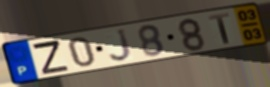0: (66, 36, 98, 68)
8: (176, 16, 207, 52), (137, 23, 166, 58)
J: (108, 27, 135, 63)
T: (207, 12, 232, 45)
Z: (30, 39, 72, 76)
